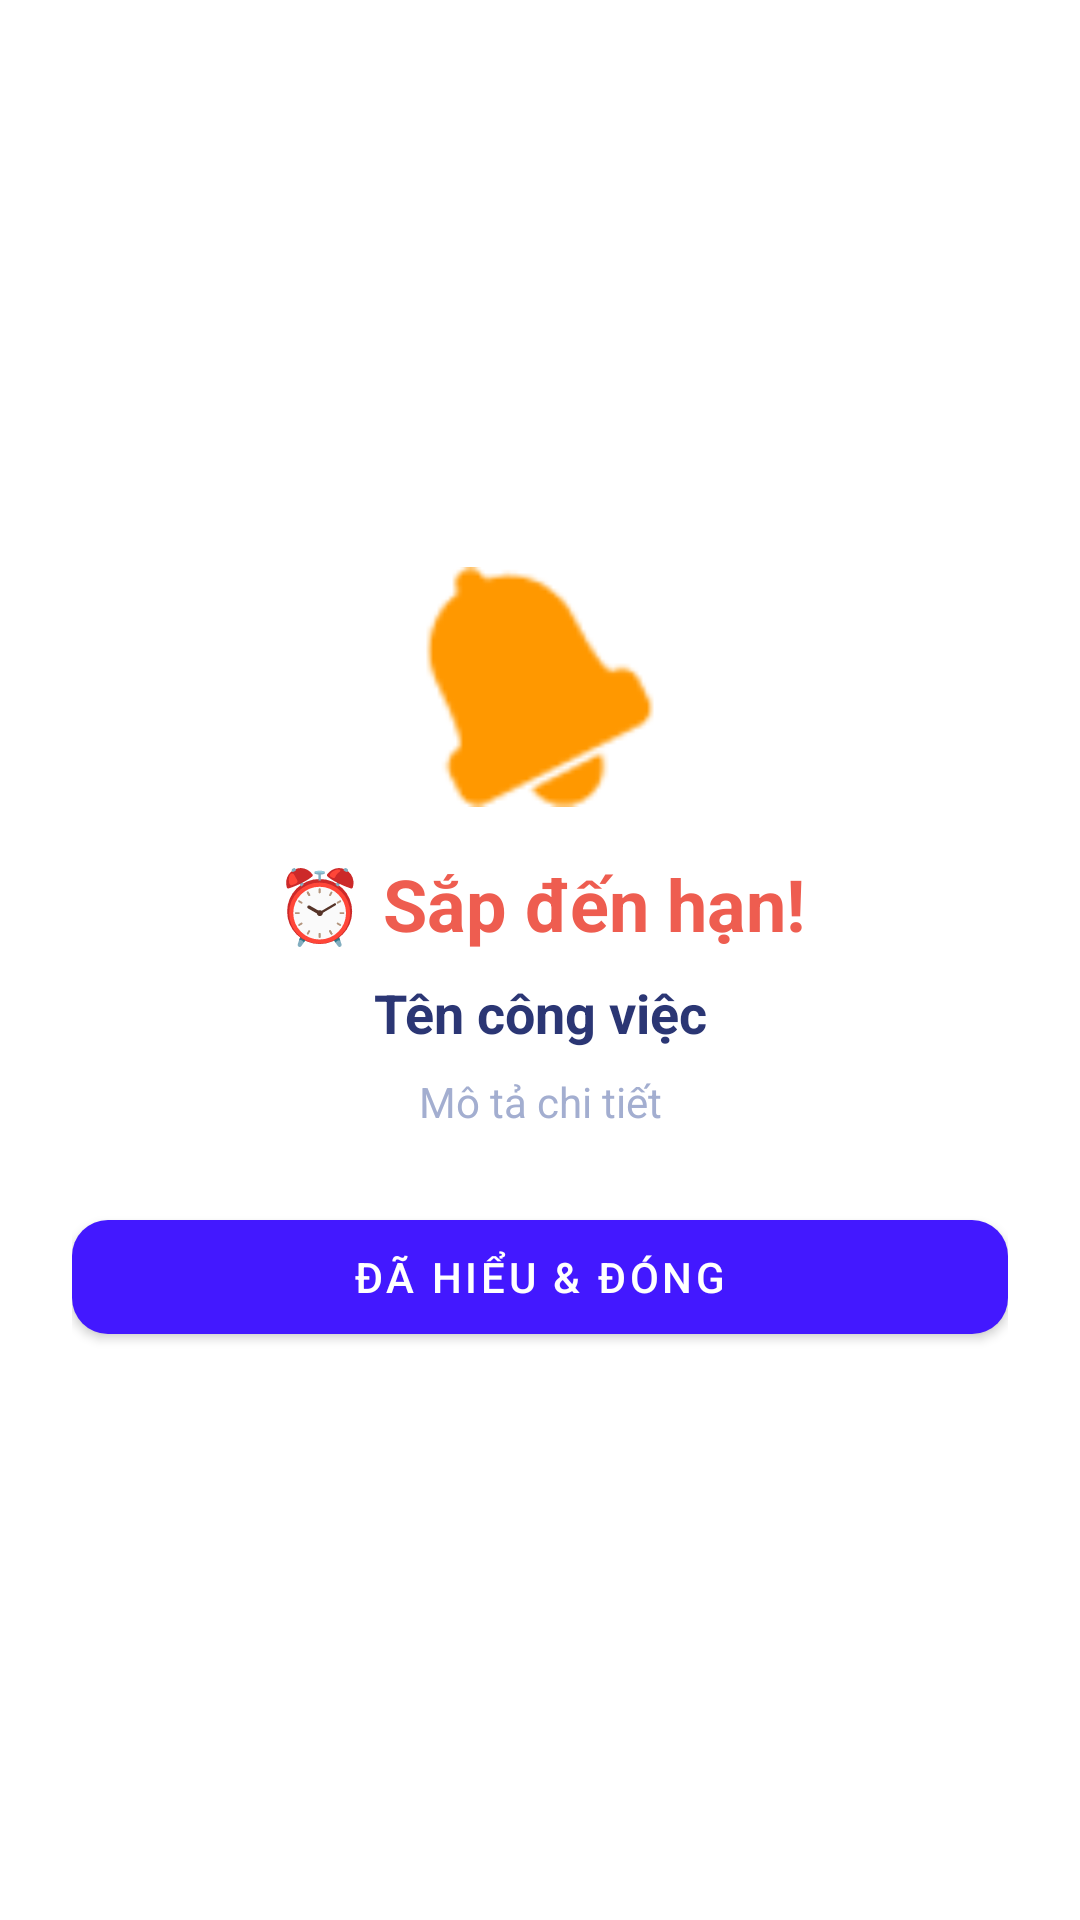

Screen size 1080x1920. Icon name, then its center in pixels as point (x, y):
popup reminder: point (539, 687)
